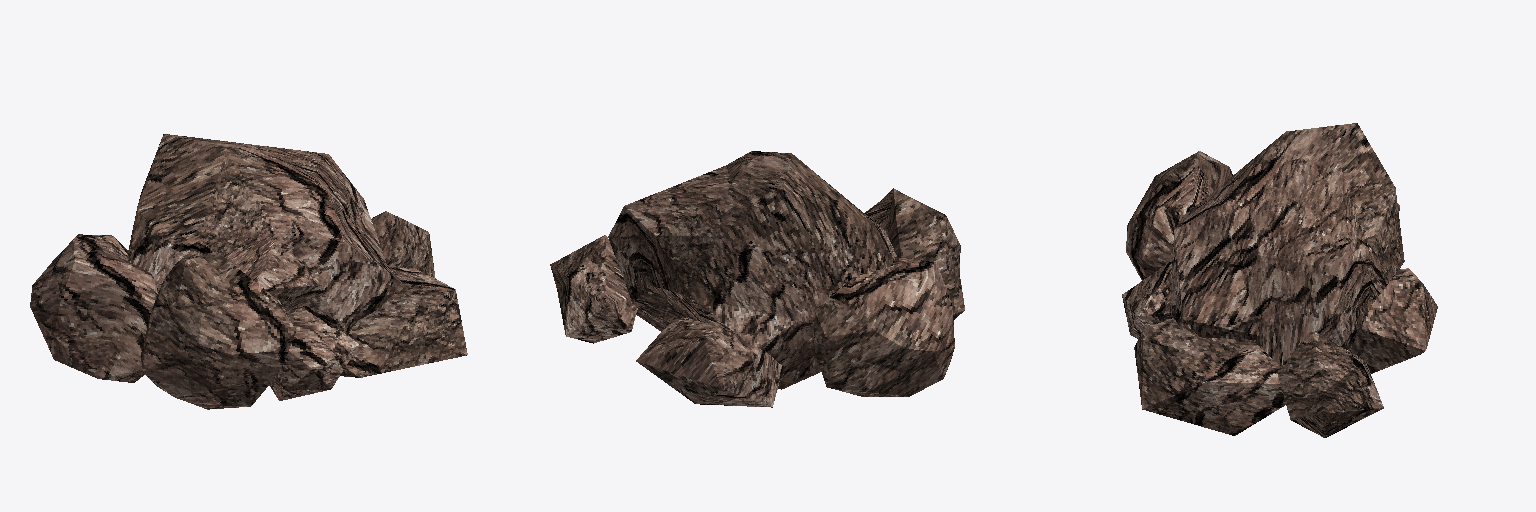
3 renders of one model, left to right at view 1: azimuth 30°, elevation 25°; view 2: azimuth 150°, elevation 25°; view 3: azimuth 270°, elevation 25°, orthographic.
Parts seen in each view (by area): view 1: GeoSphere002; view 2: GeoSphere002; view 3: GeoSphere002.
Part boxes in pixels (x1,y1,x2,y2): GeoSphere002: (30, 134, 467, 409); GeoSphere002: (550, 151, 964, 407); GeoSphere002: (1122, 123, 1437, 437).
Bounding box in the file's own units: 30.98 × 16.85 × 21.71.
1 materials, 1 textured.